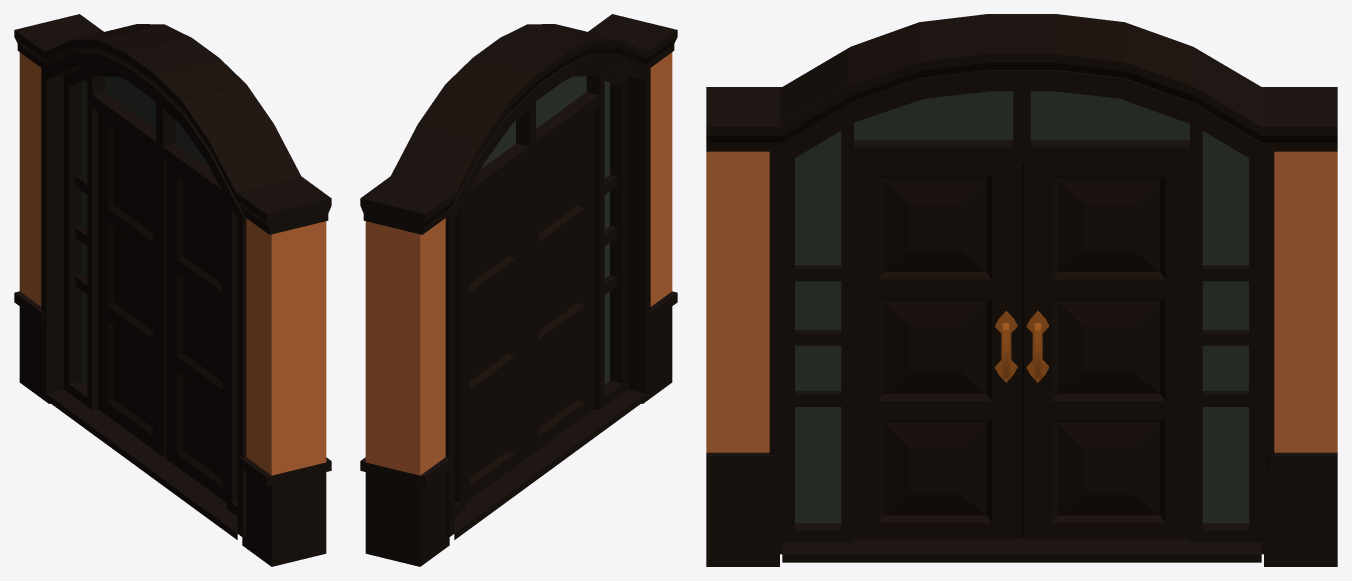
File: EntranceDoor_Final.fbx
3 views of the same model, side by side, from view 1: azimuth 30°, elevation 25°; view 2: azimuth 150°, elevation 25°; view 3: azimuth 270°, elevation 25° (orthographic). The views are drawn at different scales.
Visible parts, largest first — view 1: S_EntranceDoor; view 2: S_EntranceDoor; view 3: S_EntranceDoor.
Part boxes in pixels (x1,y1,x2,y2): S_EntranceDoor: (14,14,331,566); S_EntranceDoor: (360,14,677,566); S_EntranceDoor: (706,14,1337,566).
Size of the model in its own units: 0.5994 by 3.61 by 4.
